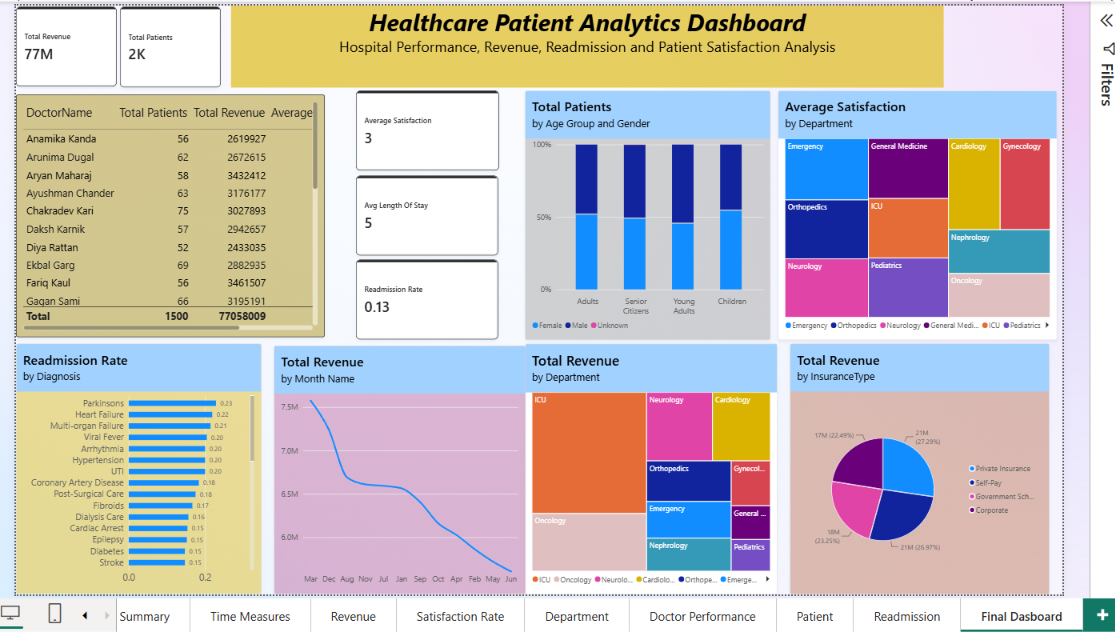

What the dashboard file says about the page in this screenshot:
{"tool":"powerbi","page":{"name":"Final Dasboard","canvas":[1920,1080],"ordinal":8},"visuals":[{"type":"cardVisual","fields":{"Data":["Healthcare_Table.Total Patients"]},"box":[190,1.8,185.2,148.1],"z":0},{"type":"cardVisual","fields":{"Data":["Healthcare_Table.Total Revenue"]},"box":[0,1.9,185.2,146.3],"z":1},{"type":"cardVisual","fields":{"Data":["Healthcare_Table.Average Satisfaction"]},"box":[624.3,155.6,262.4,146.6],"z":2},{"type":"cardVisual","fields":{"Data":["Healthcare_Table.Readmission Rate"]},"box":[624.3,465.1,260.6,146.6],"z":3},{"type":"cardVisual","fields":{"Data":["Healthcare_Table.Avg Length Of Stay"]},"box":[624.3,311.3,260.6,146.6],"z":4},{"type":"treemap","fields":{"Group":["Healthcare_Table.Department"],"Values":["Healthcare_Table.Total Revenue"]},"box":[933.8,620.7,463.3,459.7],"z":5},{"type":"tableEx","fields":{"Values":["Healthcare_Table.DoctorName","Healthcare_Table.Total Patients","Healthcare_Table.Total Revenue","Healthcare_Table.Average Satisfaction","Healthcare_Table.Rank"]},"box":[0,162.9,566.4,445.2],"z":6},{"type":"clusteredBarChart","fields":{"Category":["Healthcare_Table.Diagnosis"],"Y":["Healthcare_Table.Readmission Rate"]},"box":[0,620.7,450,459.3],"z":7},{"type":"pieChart","fields":{"Category":["Healthcare_Table.InsuranceType"],"Y":["Healthcare_Table.Total Revenue"]},"box":[1420.6,620.7,475.9,459.7],"z":8},{"type":"lineChart","fields":{"Category":["Dim_Date.Month Name"],"Y":["Healthcare_Table.Total Revenue"]},"box":[472.3,624.3,461.5,456],"z":9},{"type":"hundredPercentStackedColumnChart","fields":{"Category":["Healthcare_Table.Age Group"],"Series":["Healthcare_Table.Gender"],"Y":["Healthcare_Table.Total Patients"]},"box":[933.8,155.6,450.6,457.8],"z":10},{"type":"treemap","fields":{"Group":["Healthcare_Table.Department"],"Values":["Healthcare_Table.Average Satisfaction"]},"box":[1397.1,155.6,512.1,457.8],"z":11},{"type":"textbox","box":[394.4,0,1307.4,150],"z":12}]}

Visuals, with their boxes in screenshot pixels (x1, y1, x2, y2):
cardVisual - Healthcare_Table.Total Patients: left=114, top=1, right=216, bottom=83
cardVisual - Healthcare_Table.Total Revenue: left=9, top=1, right=111, bottom=82
cardVisual - Healthcare_Table.Average Satisfaction: left=354, top=86, right=499, bottom=167
cardVisual - Healthcare_Table.Readmission Rate: left=354, top=257, right=498, bottom=338
cardVisual - Healthcare_Table.Avg Length Of Stay: left=354, top=172, right=498, bottom=253
treemap - Healthcare_Table.Department x Healthcare_Table.Total Revenue: left=525, top=343, right=780, bottom=597
tableEx - Healthcare_Table.DoctorName x Healthcare_Table.Total Patients: left=9, top=90, right=322, bottom=336
clusteredBarChart - Healthcare_Table.Diagnosis x Healthcare_Table.Readmission Rate: left=9, top=343, right=257, bottom=597
pieChart - Healthcare_Table.InsuranceType x Healthcare_Table.Total Revenue: left=793, top=343, right=1056, bottom=597
lineChart - Dim_Date.Month Name x Healthcare_Table.Total Revenue: left=270, top=345, right=525, bottom=597
hundredPercentStackedColumnChart - Healthcare_Table.Age Group x Healthcare_Table.Gender: left=525, top=86, right=773, bottom=339
treemap - Healthcare_Table.Department x Healthcare_Table.Average Satisfaction: left=780, top=86, right=1063, bottom=339
textbox: left=227, top=0, right=949, bottom=83
